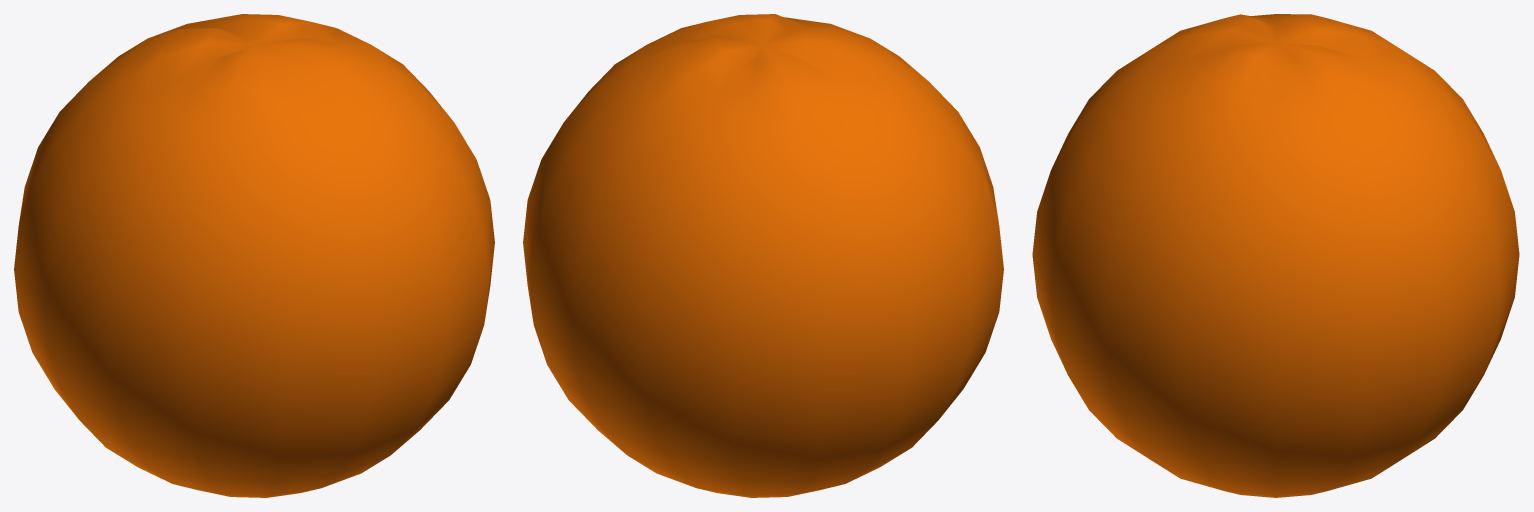
Rendered from Orange.fbx.
The picture shows the model from 3 angles, left to right: view 1: azimuth 30°, elevation 25°; view 2: azimuth 150°, elevation 25°; view 3: azimuth 270°, elevation 25°; orthographic projection.
Parts seen in each view (by area): view 1: Orange; view 2: Orange; view 3: Orange.
Part boxes in pixels (x1=…): Orange: x1=14, y1=14, x2=494, y2=497; Orange: x1=523, y1=14, x2=1003, y2=497; Orange: x1=1032, y1=14, x2=1519, y2=497.
Bounding box in the file's own units: 12.44 × 12.32 × 12.44.
